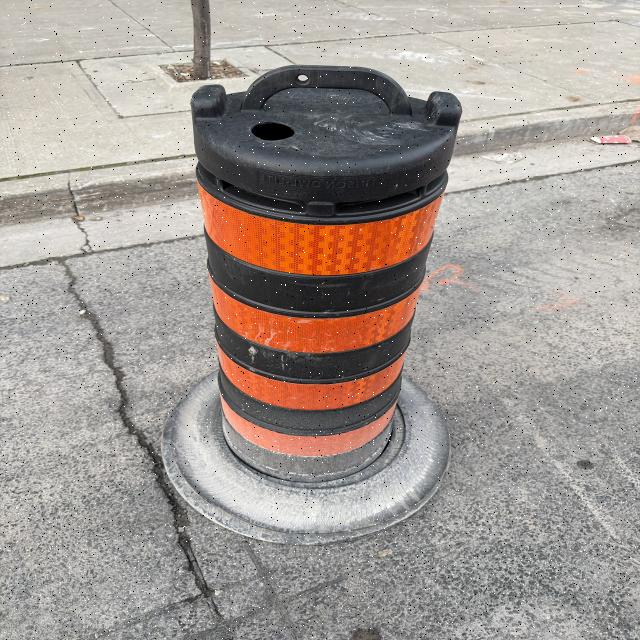Teraffic Barrel: (164, 66, 461, 542)
